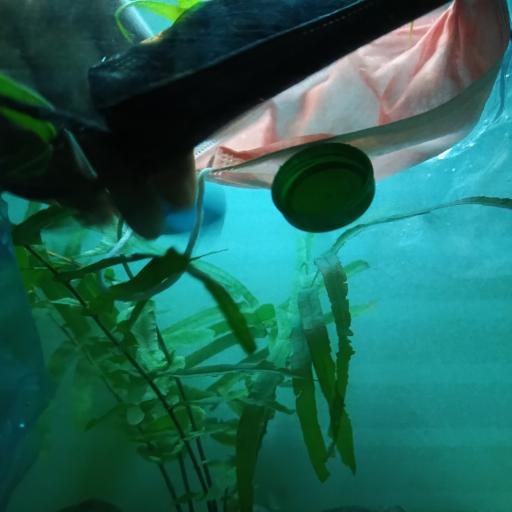bottle_cap: (272, 140, 376, 233)
mask: (80, 0, 448, 169), (197, 0, 512, 189)
plastic_bag: (402, 59, 512, 280), (0, 185, 56, 502)
